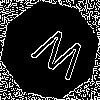W: (25, 25, 90, 90)
